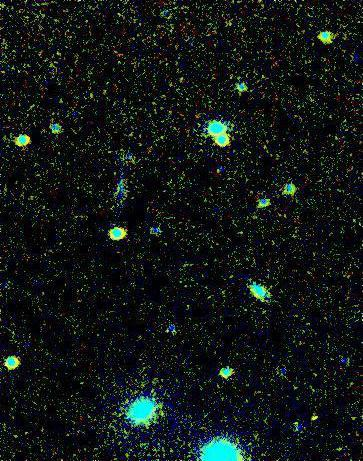star: (293, 405, 323, 435)
